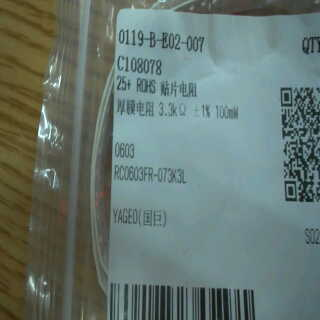3.3kO: (157, 97, 191, 121)
